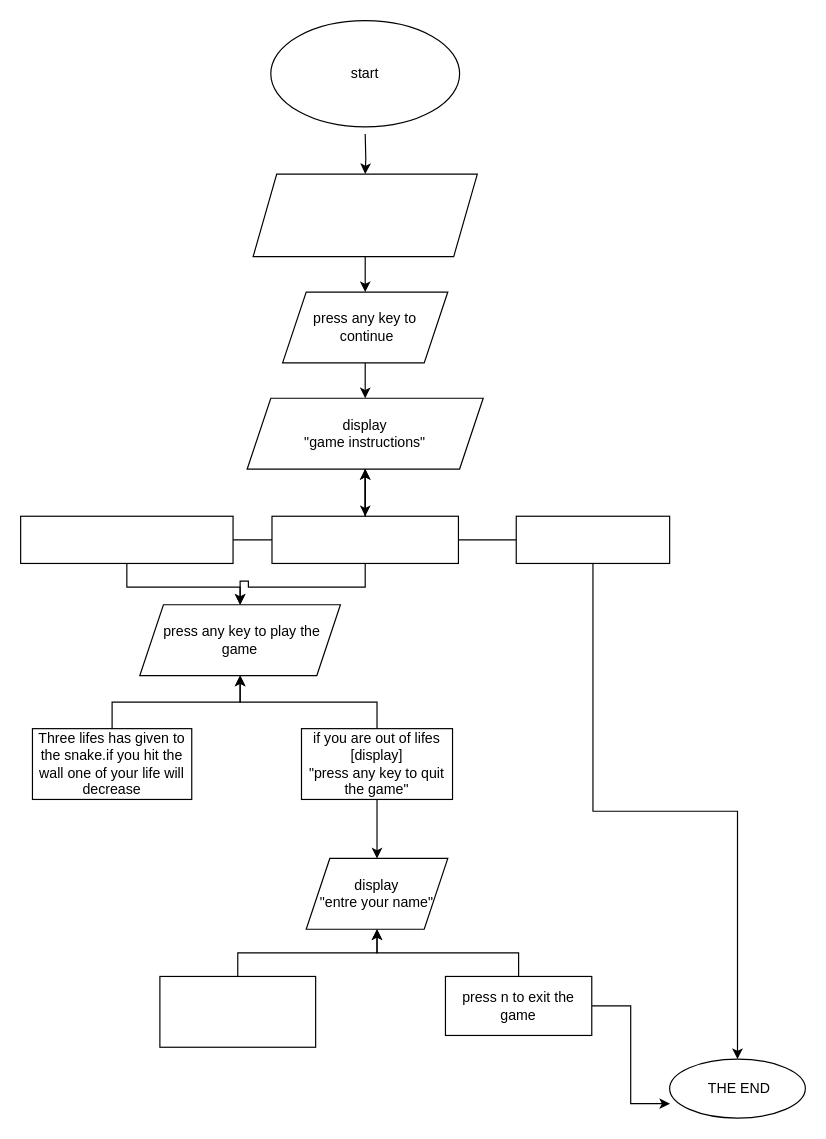
This 826x1139 diagram has some shape labels left out. Each missing label, with the centre of its shape:
display "welcome to snake game": pixel 364 215
if you want to exit press ESC: pixel 592 539
press "y" to see your previous records: pixel 237 1011
use arrow keys to move the snake: pixel 364 539
you can pause the game while playing by pressing any key: pixel 126 539
